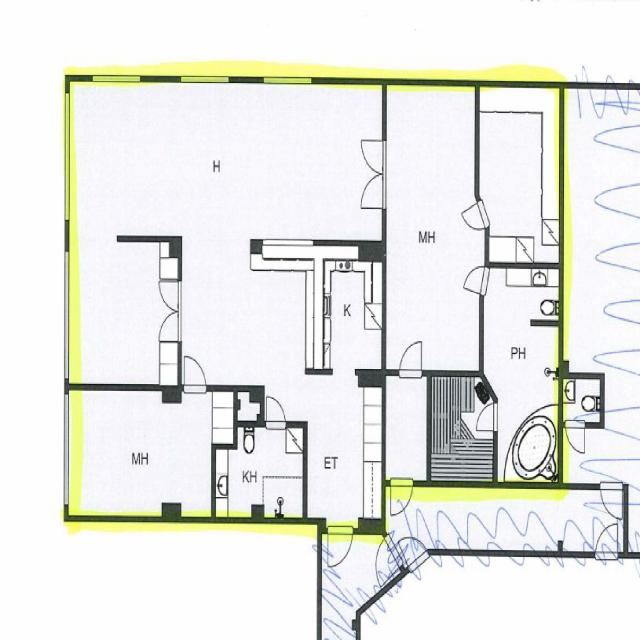door: (459, 200, 489, 241), (328, 527, 353, 571), (390, 480, 414, 521), (462, 260, 490, 295), (358, 174, 386, 208), (358, 140, 386, 174), (399, 338, 422, 378), (382, 334, 409, 368), (184, 353, 206, 392), (92, 236, 114, 275), (70, 236, 92, 275), (157, 312, 182, 342), (157, 282, 182, 312), (266, 393, 286, 428), (474, 404, 498, 432)
